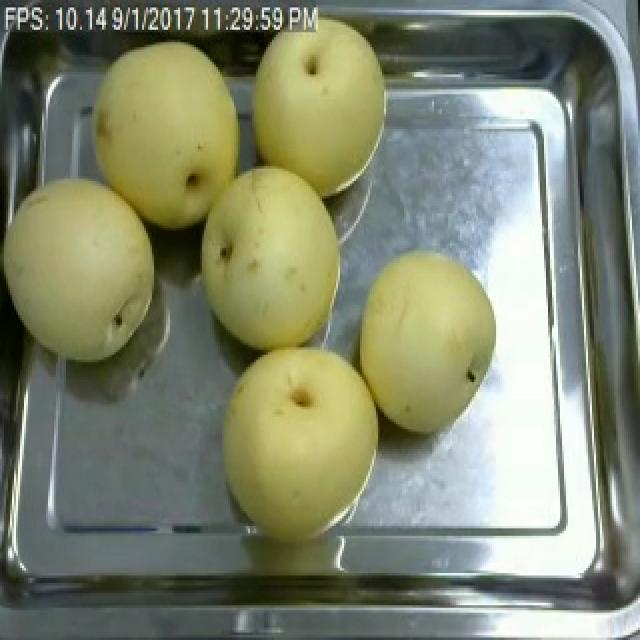Fruit: (70, 22, 258, 246), (210, 332, 388, 544), (0, 161, 170, 372), (184, 151, 352, 360), (234, 5, 396, 208), (346, 241, 506, 439)
